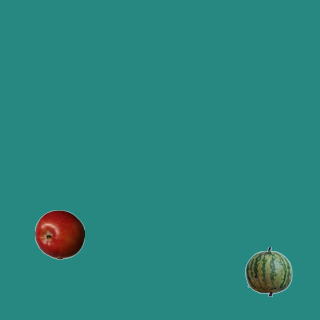Apple Braeburn: (34, 209, 84, 259)
Watermelon: (243, 246, 293, 296)
